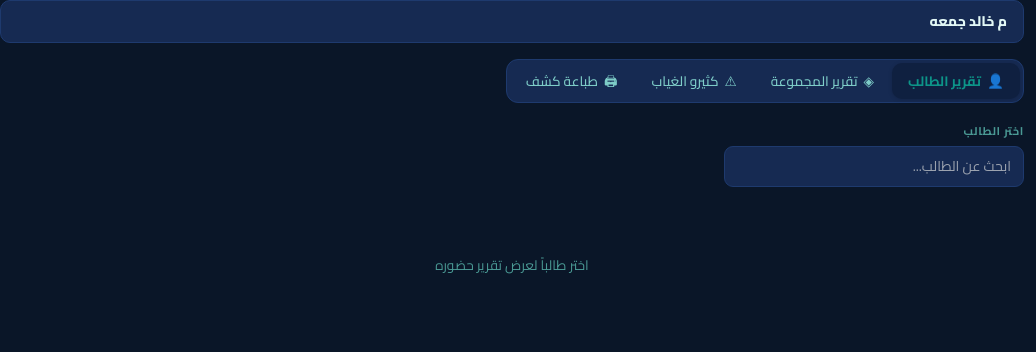
Test: AttendanceReports — "طباعة كشف" tab is wired to the existing openGroupSessionReport builder › after picking a group, lists its existing sessions (dates) and disables print until one is chosen
The width and height of the screenshot is (1036, 352).
Click the button "🖨 طباعة كشف" at (572,81), box 510,63 -> 634,99
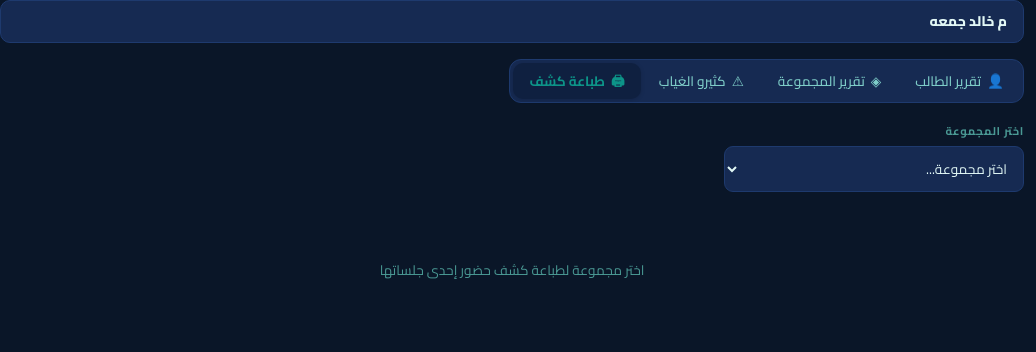
Select "مجموعة أ" in the dropdown showing "اختر مجموعة..." at (874,169), box 724,146 -> 1024,192
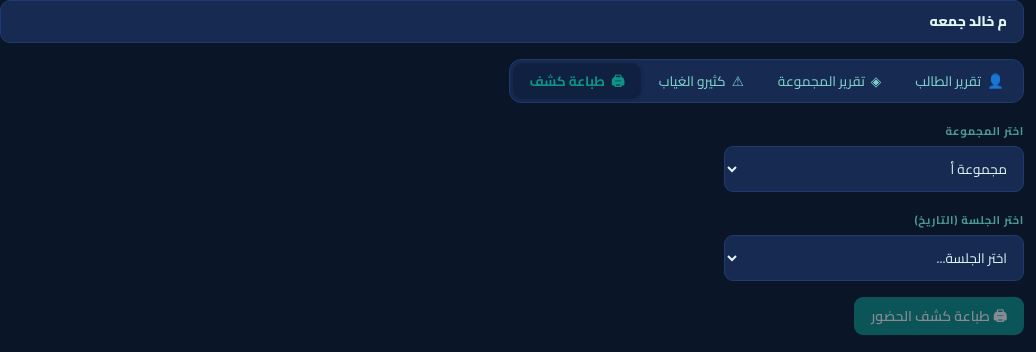
Expected: the dropdown showing "اختر الجلسة" below "اختر الجلسة (التاريخ)" is shown, 724,235 -> 1024,281
Expected: the button "🖨 طباعة كشف الحضور" is disabled, 854,297 -> 1024,335
